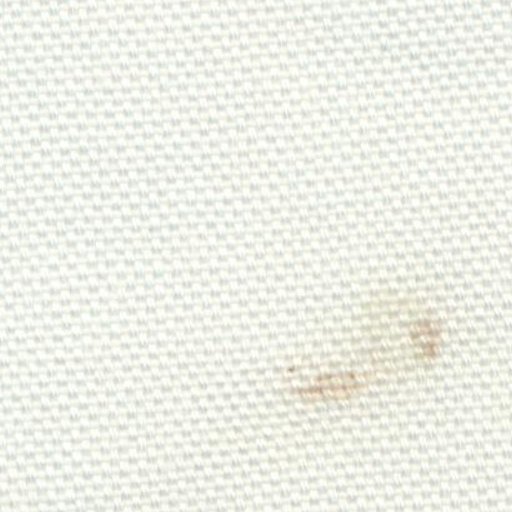WuZi: (284, 268, 472, 418)
